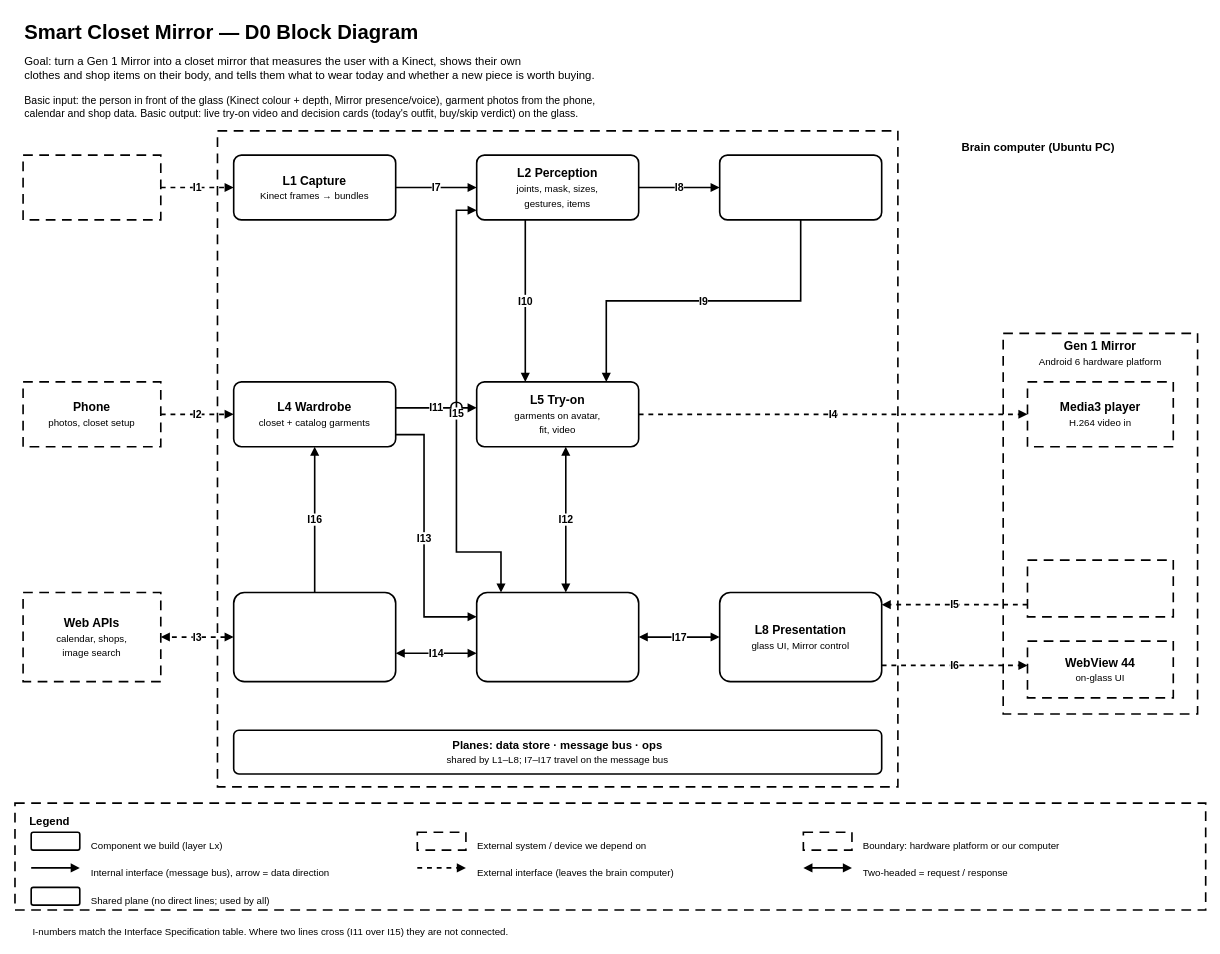
The diagram is 1220 pixels wide and 954 high, and some of its shapes have lost their labels. Each missing label, with the box of its shape:
Camera and mic presence, voice: (1026, 559, 1174, 617)
Kinect 360 USB 2.0 + 12 V power: (22, 154, 161, 220)
L3 Body measurements → avatar: (718, 154, 882, 220)
L6 Decision verdict, daily outfit, looks: (475, 591, 639, 682)
L7 Connectors every call to the outside world: (232, 591, 396, 682)
